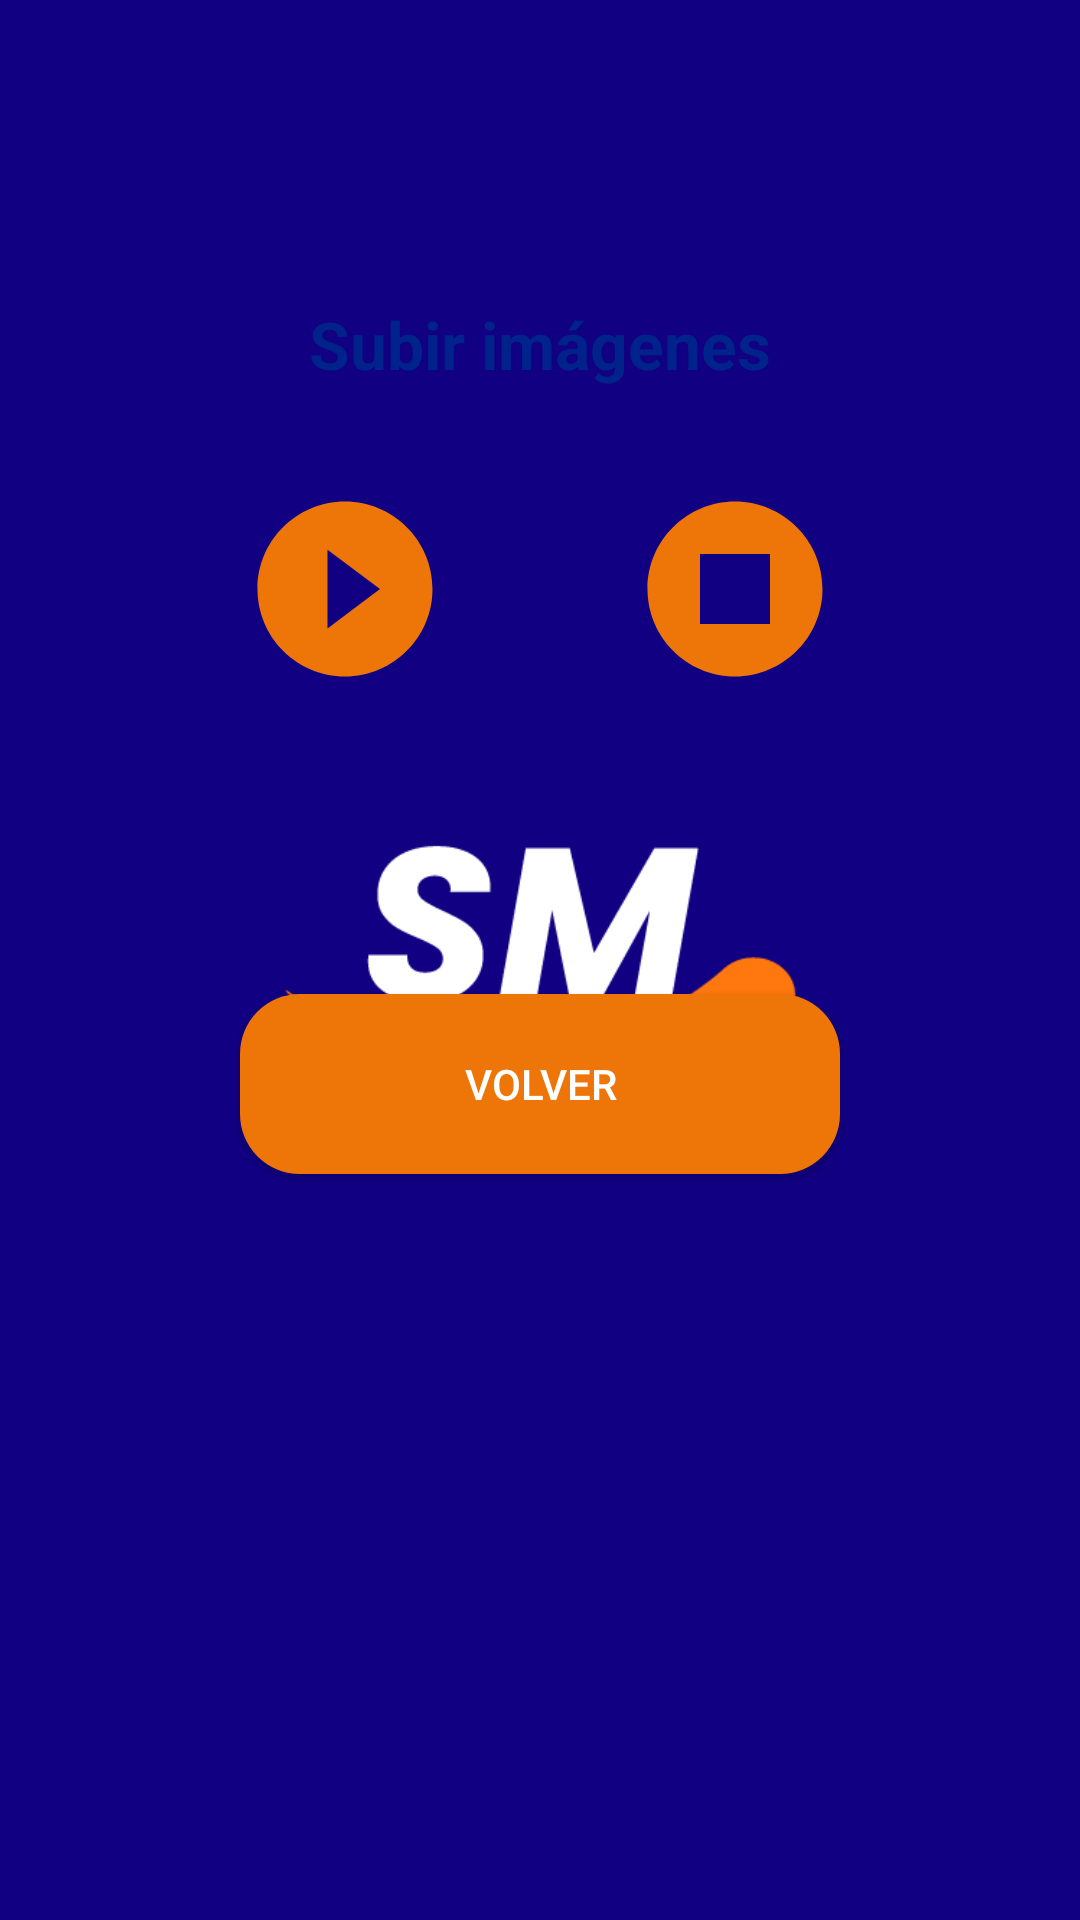

Screen size 1080px x 1920px. Icon name, then its center in pixels as (x=x, y=y):
play circle: (x=345, y=589)
stop circle: (x=735, y=589)
